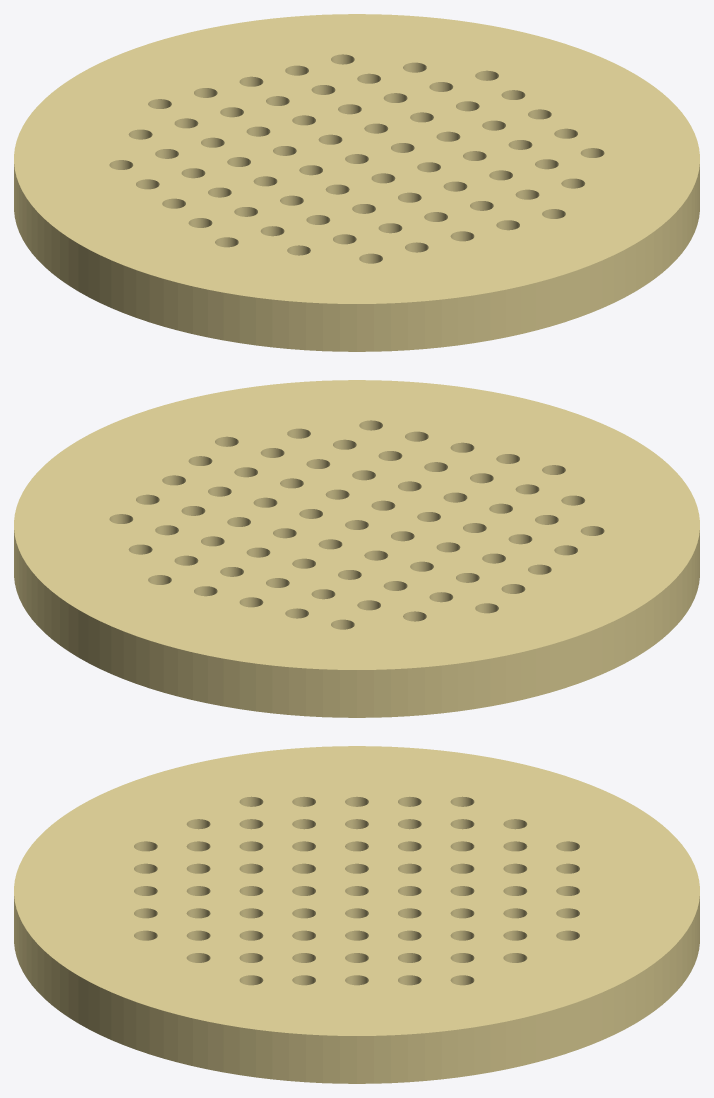
File: evr-vent-filter-illustrative.glb
The picture shows the model from 3 angles, top to bottom: view 1: azimuth 30°, elevation 25°; view 2: azimuth 150°, elevation 25°; view 3: azimuth 270°, elevation 25°; orthographic projection.
Visible parts, largest first — view 1: world; view 2: world; view 3: world.
Part boxes in pixels (x1,y1,x2,y2): world: [14, 14, 699, 351]; world: [14, 380, 699, 717]; world: [14, 746, 699, 1083].
Size of the model in its own units: 0.026 by 0.002 by 0.026.
